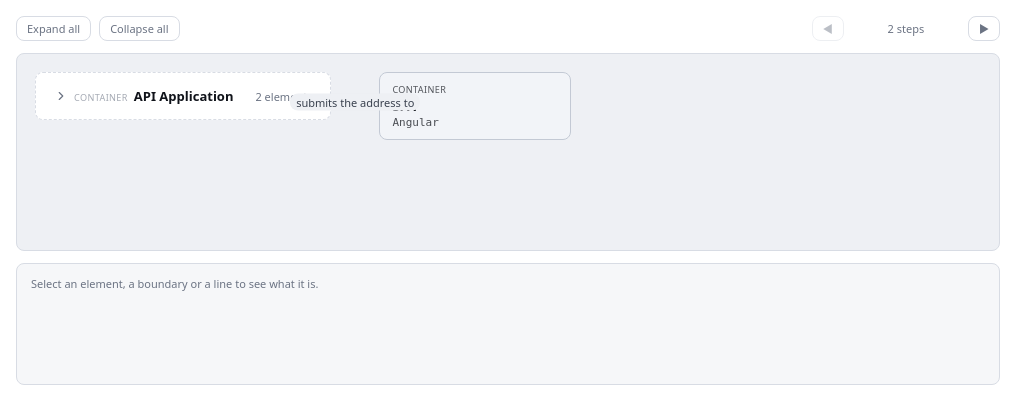
C4Chart — a dynamic run › walks the numbered relations, and says where it is
Click the button named "Next step" at (984, 28), box [968,16,1000,41]
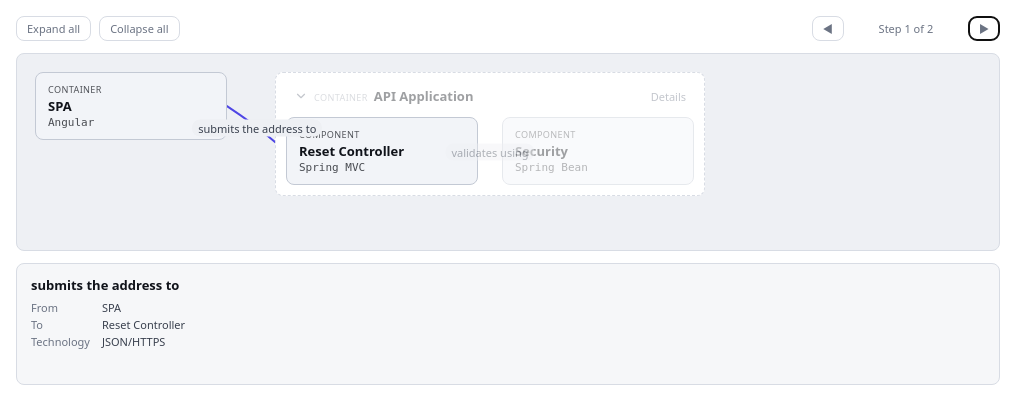
Check: the text "Step 1 of 2" is shown, box [879,21,933,36]
